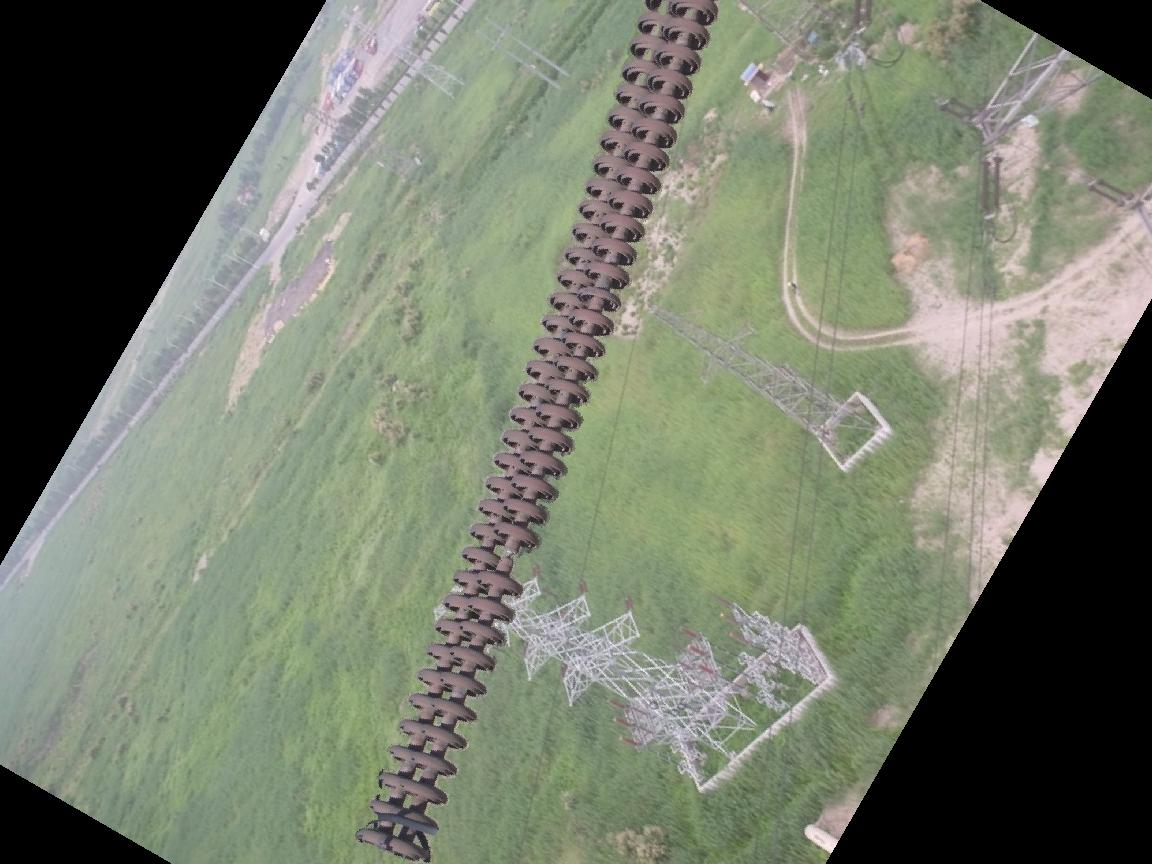insulator: (350, 1, 720, 863)
insulator_stringdrop: (472, 518, 544, 600)
